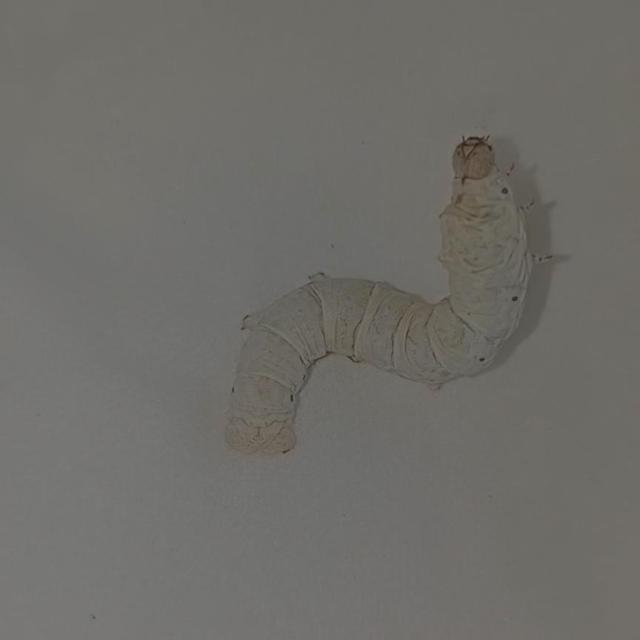Healthy: (202, 102, 560, 482)
